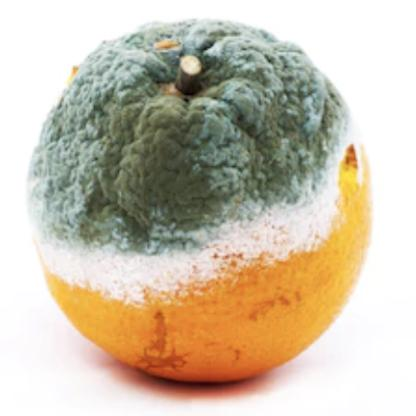rotten: (26, 24, 373, 390)
